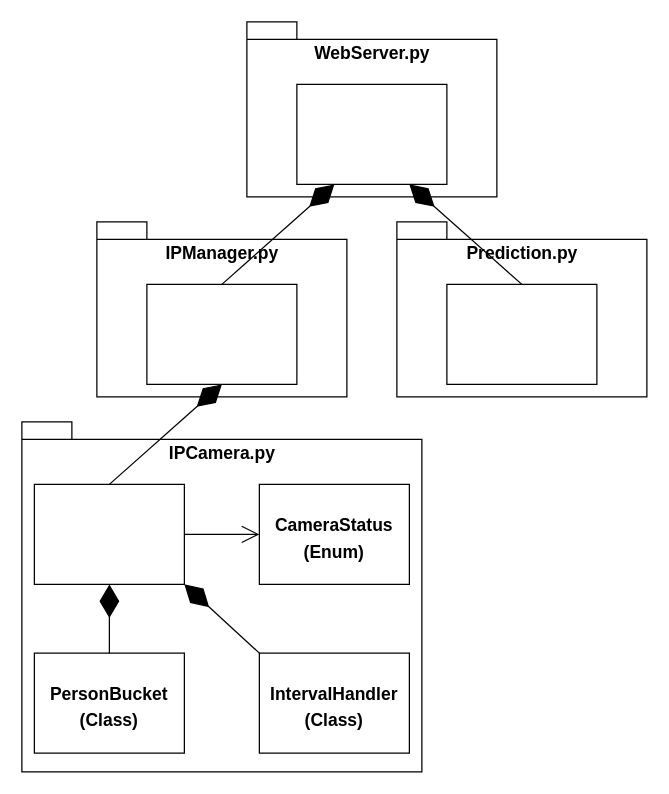
Some shapes in this 669 by 794 pixel diagram are drawn without their labels. The centre of each missing label's shape, as x and y in pixels:
IPCamera (Class): [108,533]
IPManager (Class): [221,333]
Prediction (Class): [521,333]
WebServer: [371,133]
